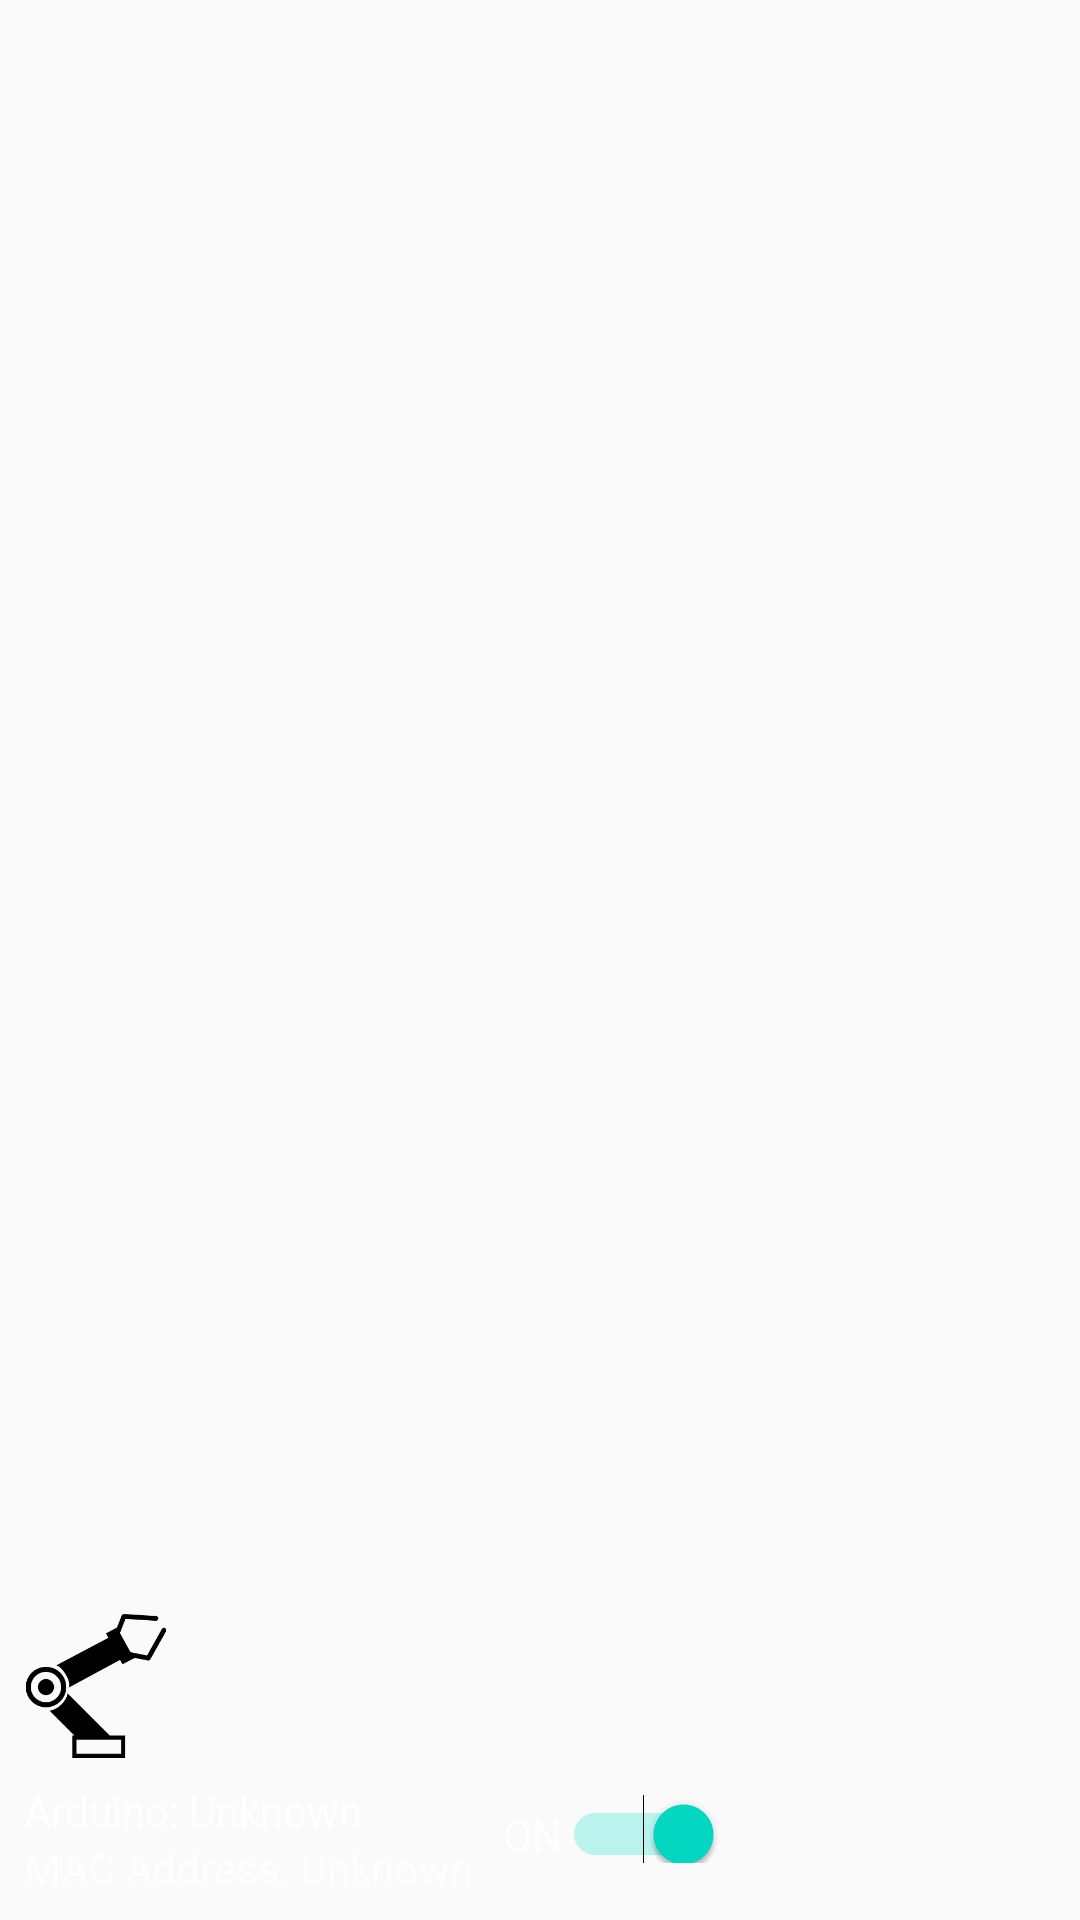

Where to tap for icons on this 1080px×1920px app screen, as point (x, y):
arm: point (96, 1686)
